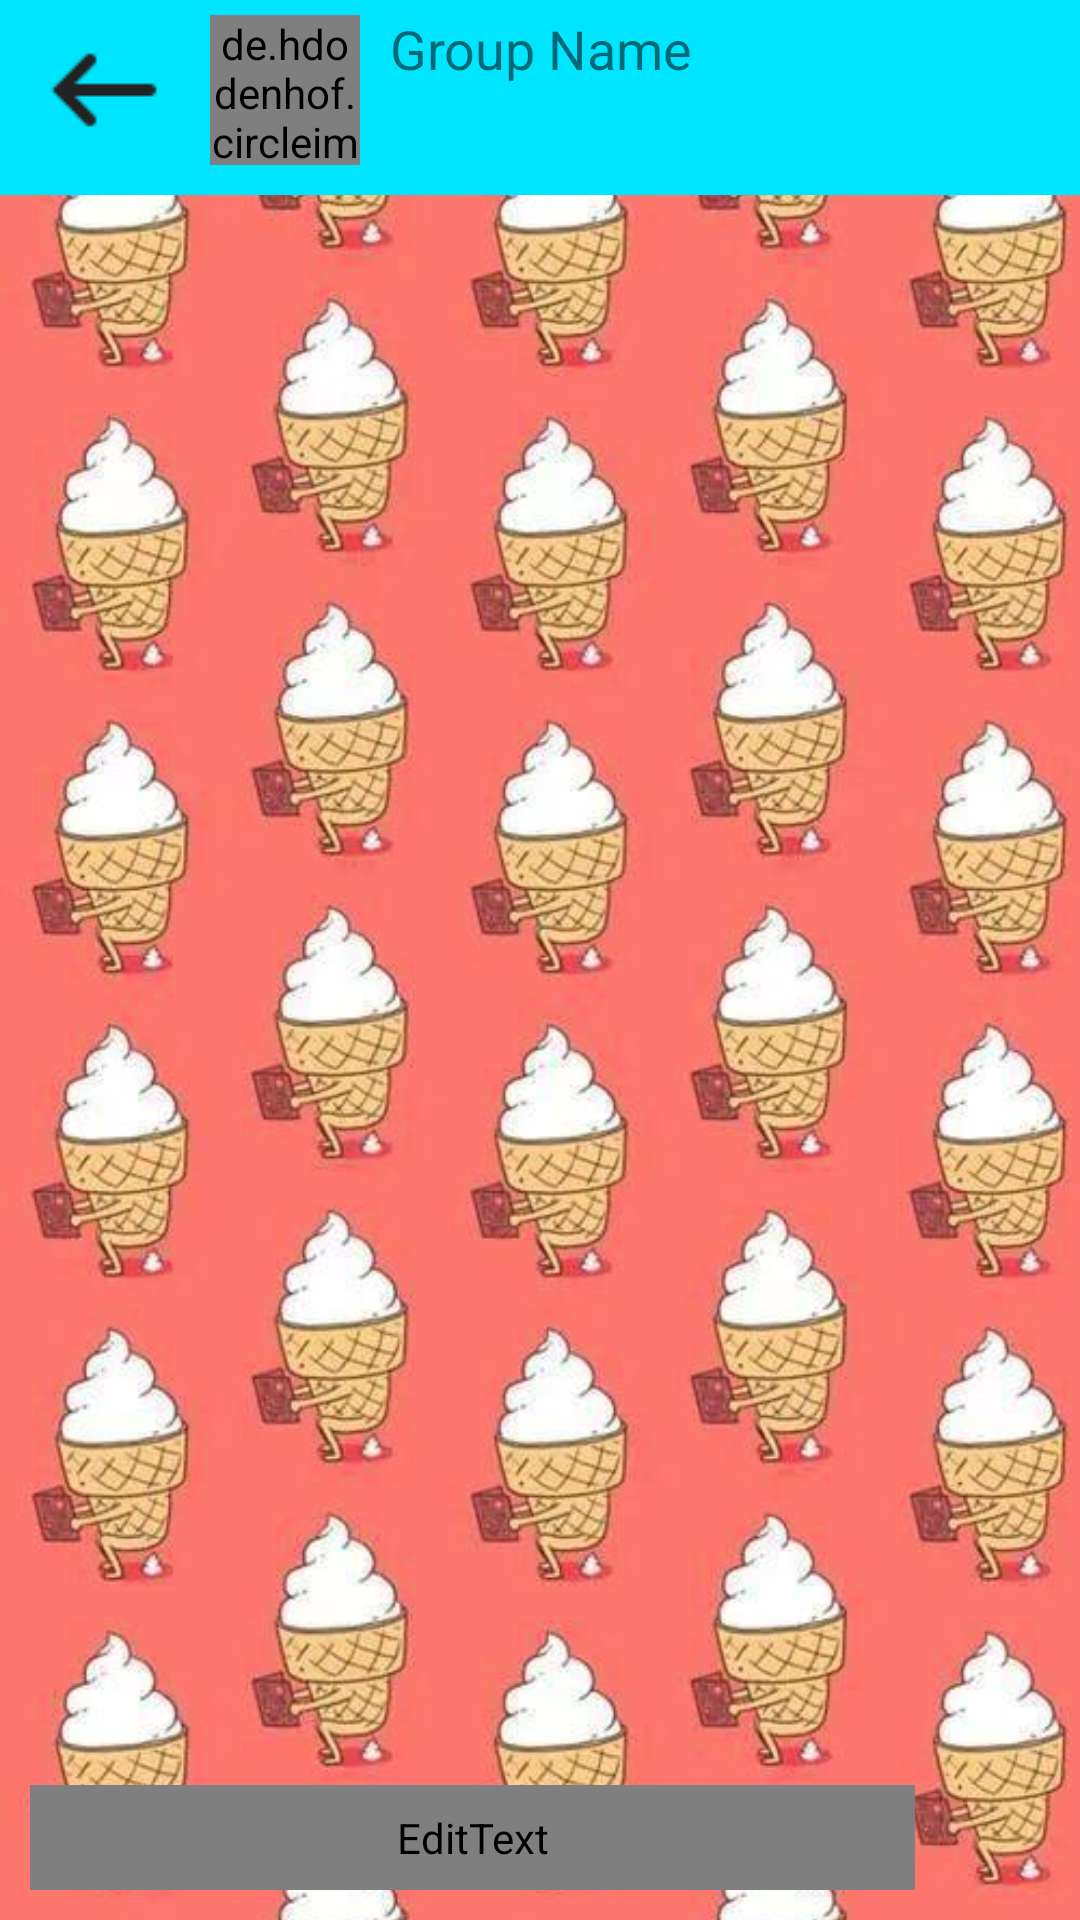

Point at icon controls on the screen. Image size 1080px×1920px, points as (x,y).
back rooms: (104,90)
